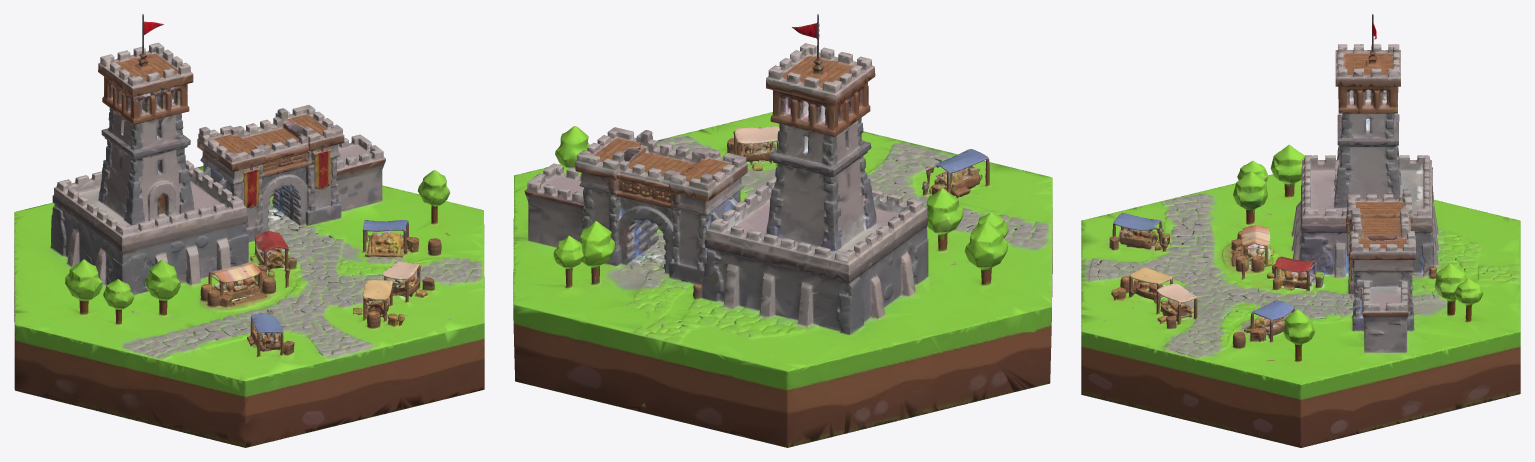
The model's file is towntile_lv4.glb.
3 views of the same model, side by side, from view 1: azimuth 30°, elevation 25°; view 2: azimuth 150°, elevation 25°; view 3: azimuth 270°, elevation 25° (orthographic). The views are drawn at different scales.
Size of the model in its own units: 1.9 by 1.2 by 1.62.
1 material, 1 textured.
